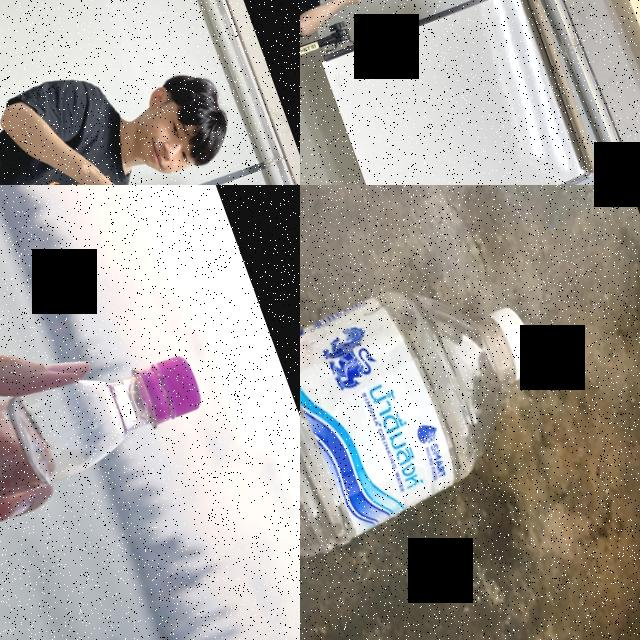bottle: (300, 246, 588, 640), (0, 332, 218, 599)
